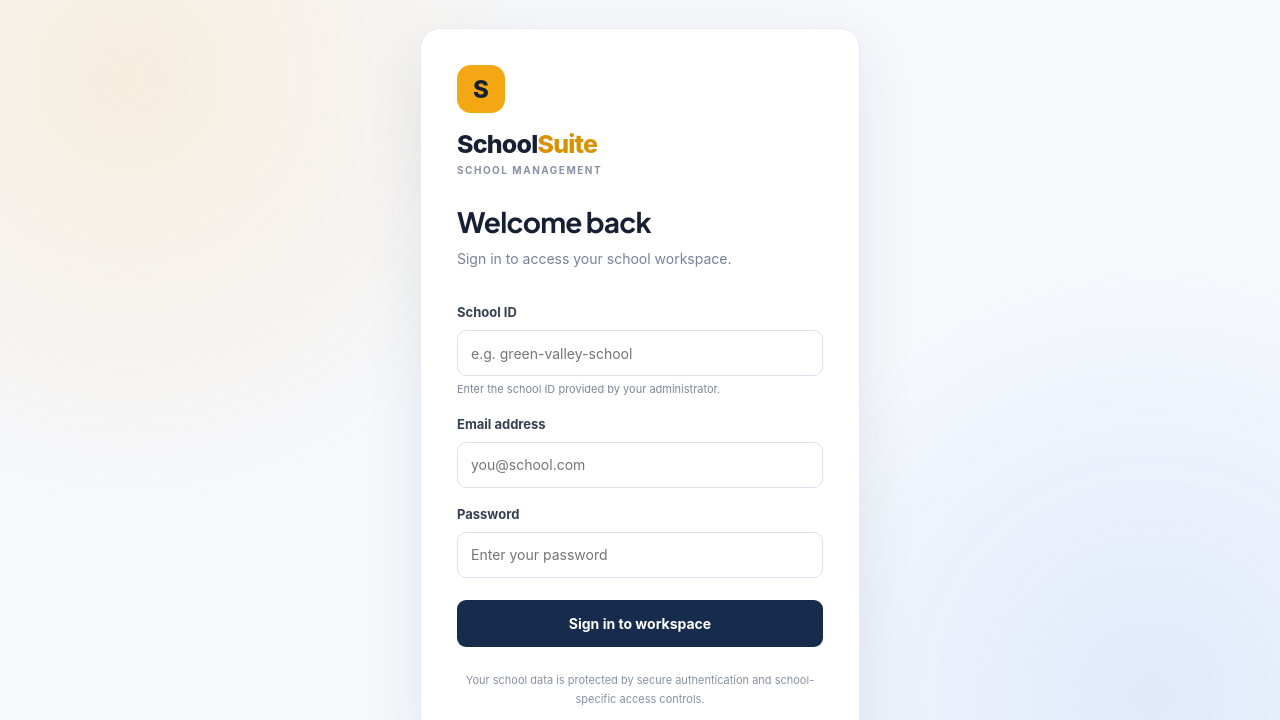
Test: LoginPage › displays an error when login fails
Step 1. Type "green-valley-school" into the field labelled "School ID" → (640, 353), box [457, 330, 823, 376]
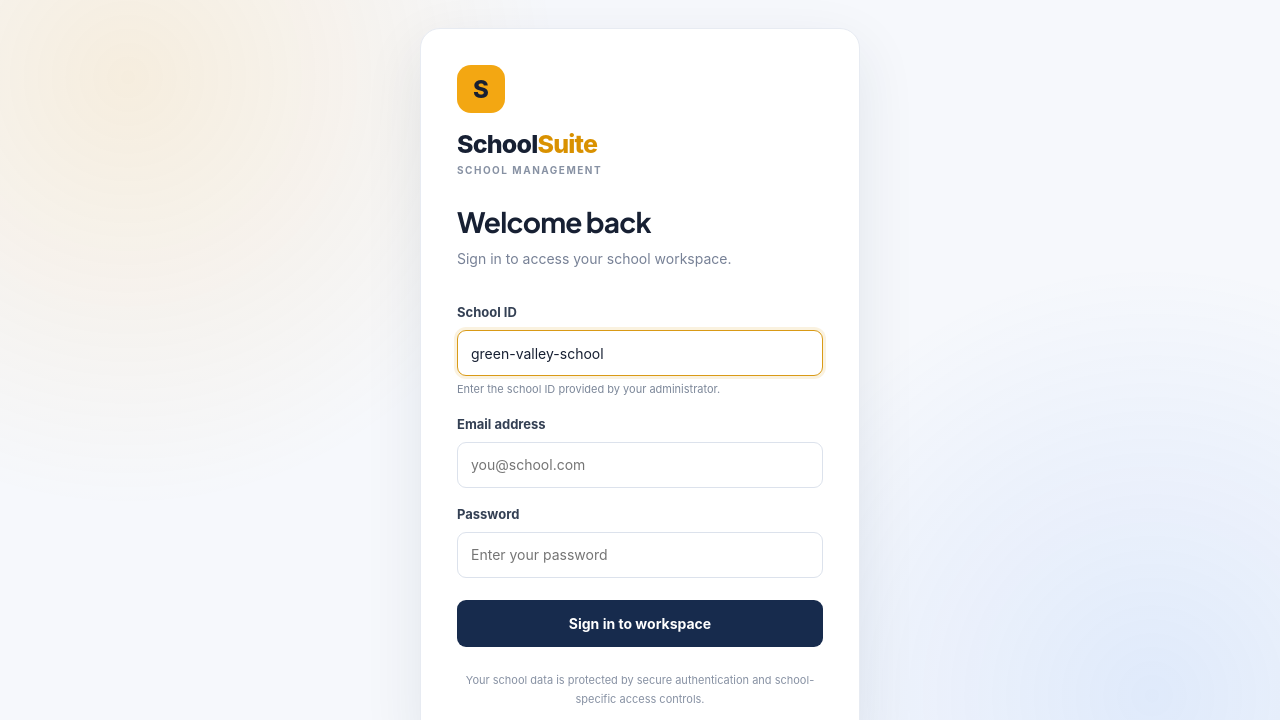
Step 2. Type "admin@school.com" into the field labelled "Email address" → (640, 465), box [457, 442, 823, 488]
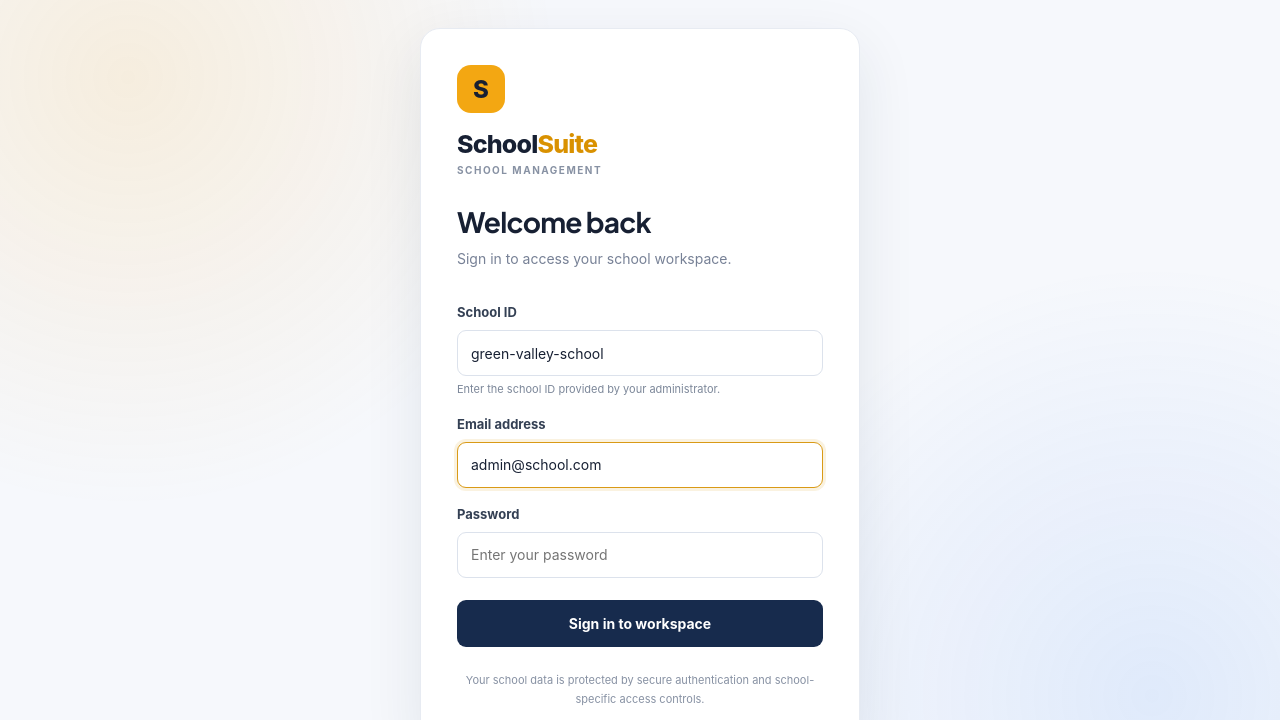
Step 3. Type "WrongPassword123!" into the password field labelled "Password" → (640, 555), box [457, 532, 823, 578]
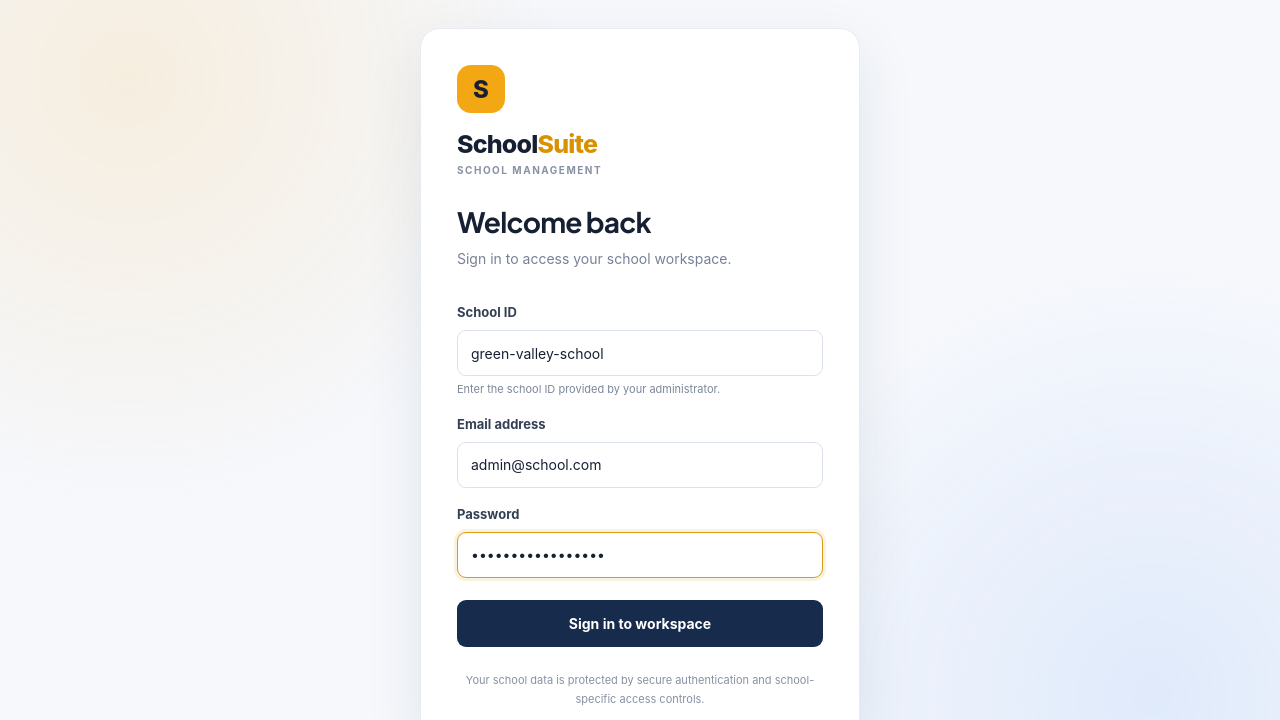
Step 4. Click the button "Sign in to workspace" → (640, 623), box [457, 600, 823, 647]
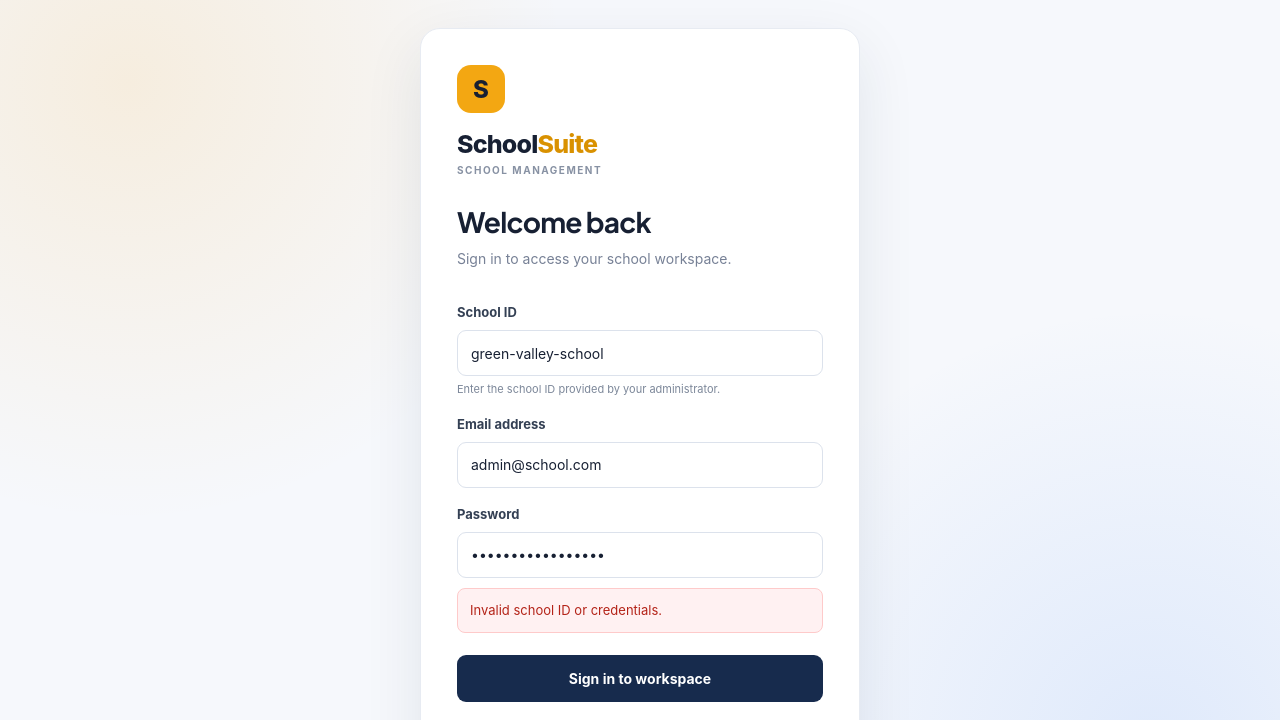
Result: the message reads "Invalid school ID or credentials." at [470, 602, 662, 618]
